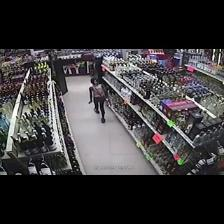person: (89, 78, 108, 123)
